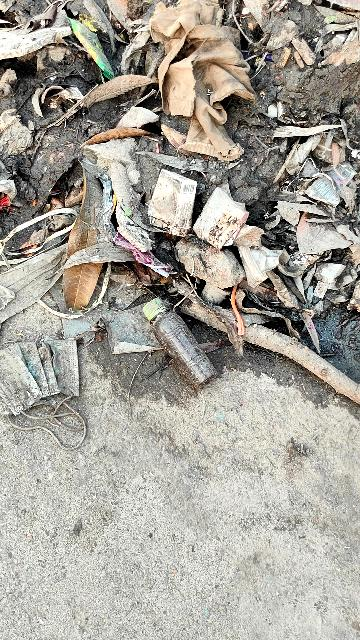bottle: (132, 279, 225, 397)
